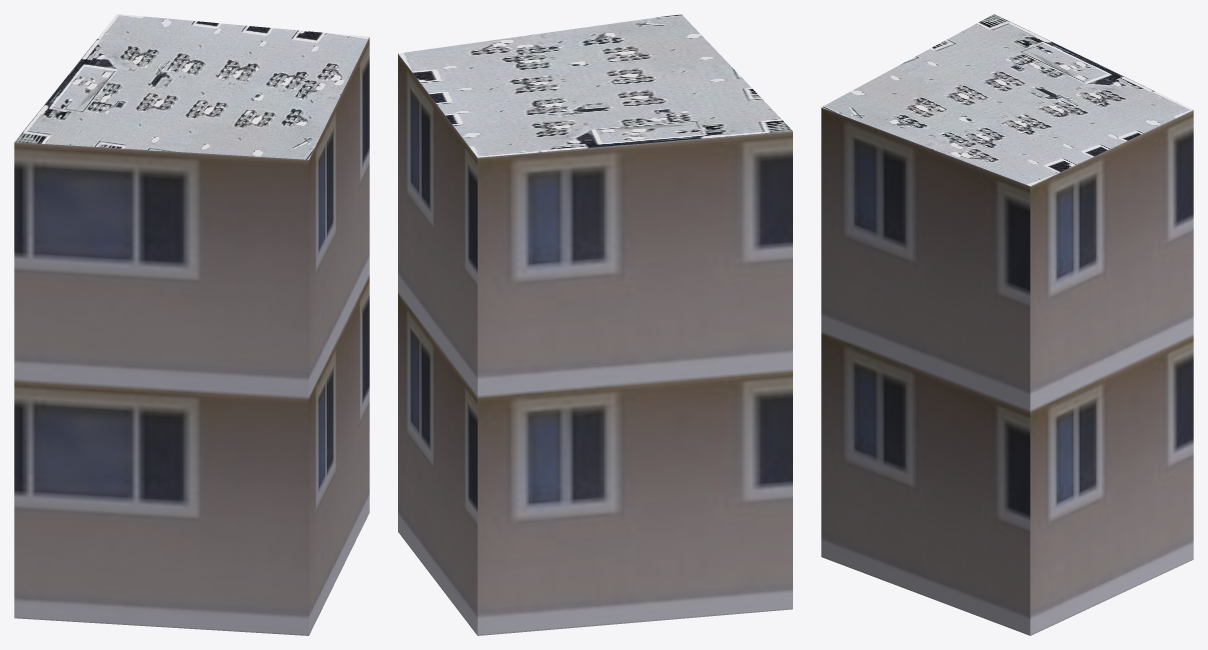
File: ResTex__1459.fbx
The picture shows the model from 3 angles, left to right: view 1: azimuth 30°, elevation 25°; view 2: azimuth 150°, elevation 25°; view 3: azimuth 270°, elevation 25°; orthographic projection. The views are drawn at different scales.
Parts seen in each view (by area): view 1: CityEngineMaterial_21_m, CityEngineMaterial_2_m; view 2: CityEngineMaterial_21_m, CityEngineMaterial_2_m; view 3: CityEngineMaterial_21_m, CityEngineMaterial_2_m.
Boxes of the visible parts, x1,y1,x2,y2 form: CityEngineMaterial_21_m: (14,37,369,635); CityEngineMaterial_2_m: (15,14,369,159); CityEngineMaterial_21_m: (398,54,792,635); CityEngineMaterial_2_m: (398,14,792,157); CityEngineMaterial_21_m: (821,107,1193,635); CityEngineMaterial_2_m: (821,14,1192,186).
Bounding box in the file's own units: 4.93 × 6 × 4.51.
Materials: 2 (2 with a texture image).
